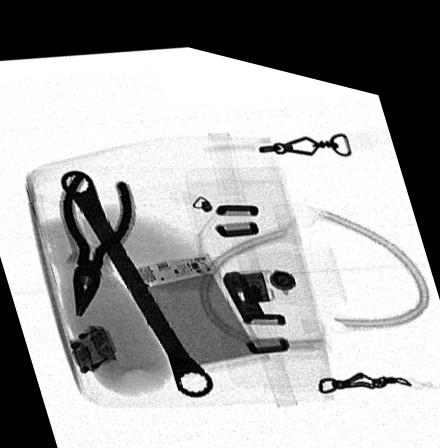Pliers: (59, 164, 132, 315)
Powerbank: (124, 241, 271, 367)
Wrench: (57, 164, 212, 389)
